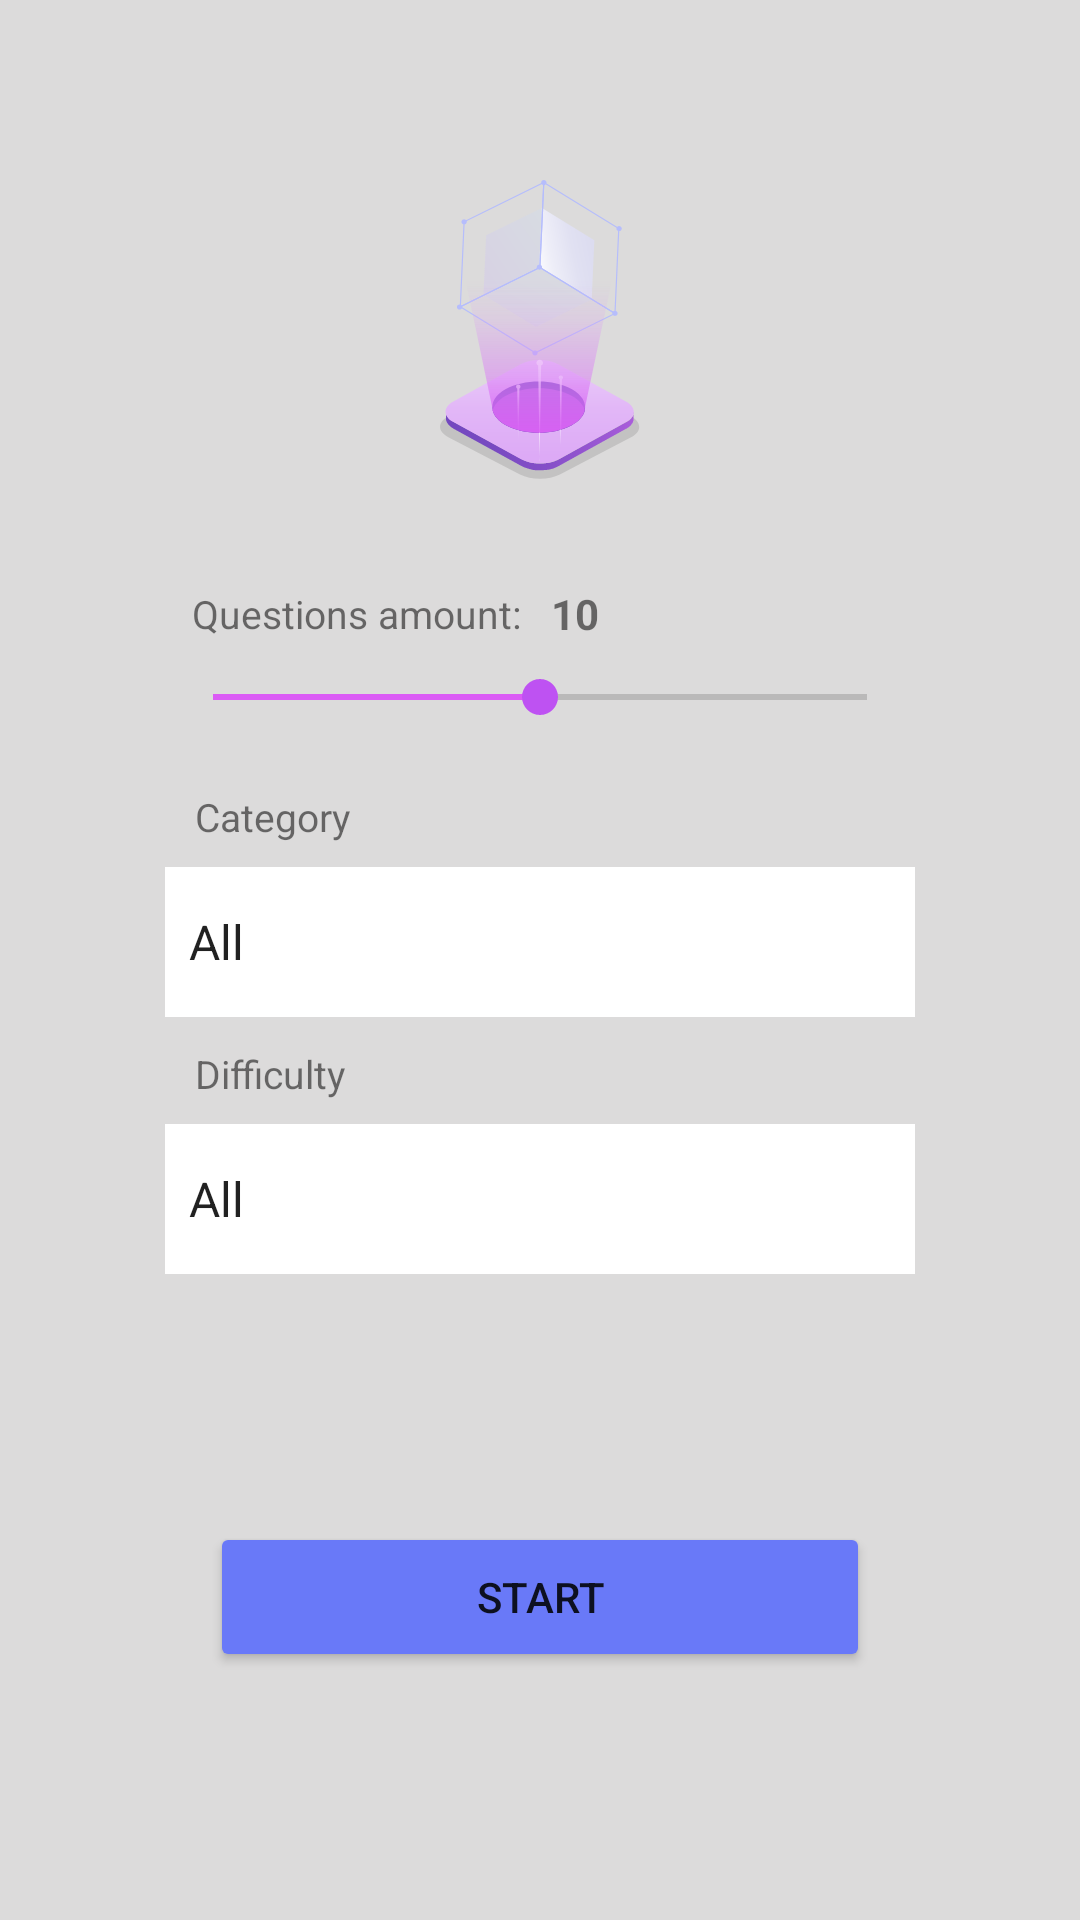

Where to tap for icons on this 1080px x 1920px app screen, as [x,y]:
ar tut: [540,329]
